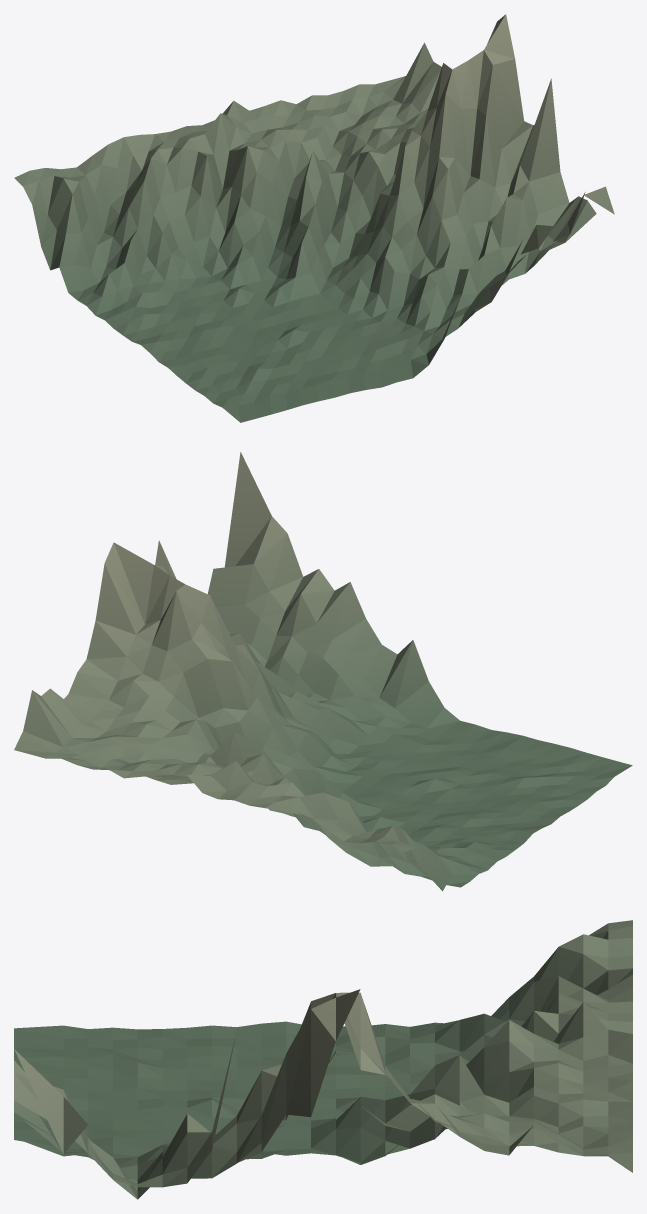
The model's file is tile_1_2.glb.
3 renders of one model, top to bottom at view 1: azimuth 30°, elevation 25°; view 2: azimuth 150°, elevation 25°; view 3: azimuth 270°, elevation 25°, orthographic. The views are drawn at different scales.
Visible parts, largest first — view 1: geometry_0; view 2: geometry_0; view 3: geometry_0.
Boxes of the visible parts, x1,y1,x2,y2 form: geometry_0: [14, 14, 614, 422]; geometry_0: [14, 452, 632, 891]; geometry_0: [14, 920, 632, 1199].
Size of the model in its own units: 123 by 65.97 by 123.
